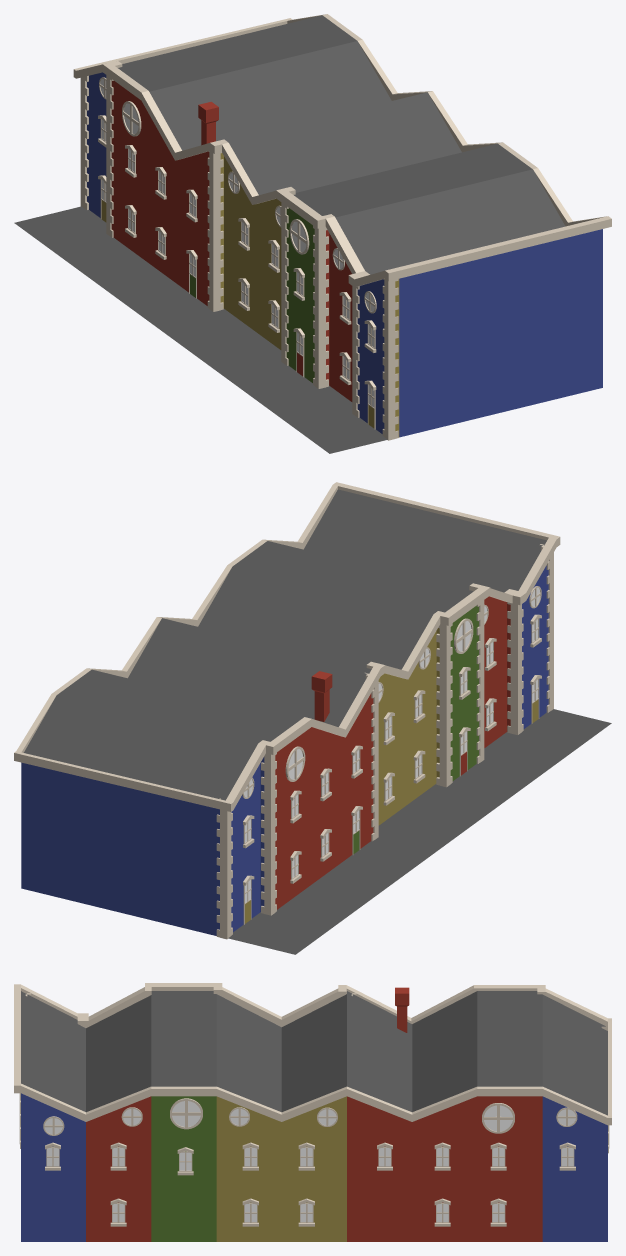
File: 2x1_Buildings.col.glb
3 views of the same model, one above another, from view 1: azimuth 30°, elevation 25°; view 2: azimuth 150°, elevation 25°; view 3: azimuth 270°, elevation 25° (orthographic). The views are drawn at different scales.
Parts seen in each view (by area): view 1: 2x1_Buildings.col; view 2: 2x1_Buildings.col; view 3: 2x1_Buildings.col.
Part boxes in pixels (x1=…): 2x1_Buildings.col: x1=14, y1=14, x2=611, y2=453; 2x1_Buildings.col: x1=14, y1=482, x2=611, y2=954; 2x1_Buildings.col: x1=14, y1=983, x2=611, y2=1241.
Size of the model in its own units: 20.94 by 12.43 by 40.75.
